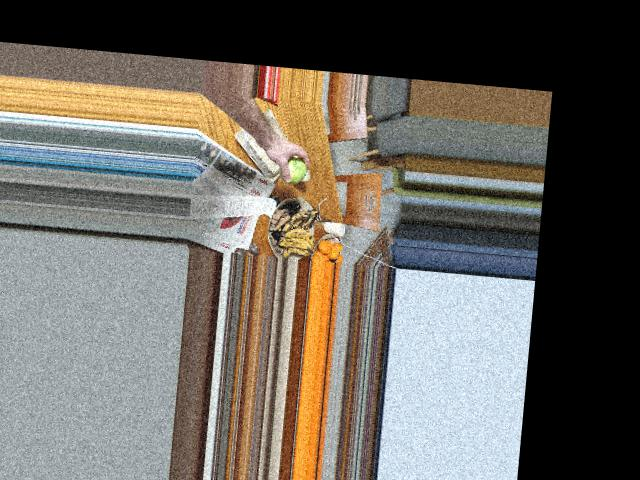apple: (270, 150, 307, 182)
